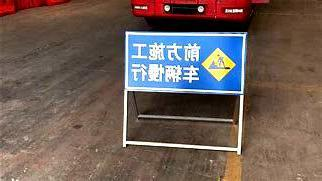sign: (123, 31, 248, 95)
